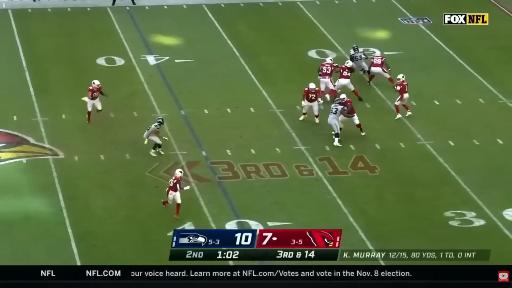Helmet: (175, 169, 183, 177), (92, 80, 100, 87), (156, 118, 164, 125), (345, 60, 353, 67), (397, 74, 405, 81), (339, 94, 347, 101), (309, 83, 315, 91), (334, 99, 342, 105), (353, 45, 358, 52), (326, 58, 333, 63), (374, 51, 380, 56)
Jersey: (167, 176, 181, 194), (319, 63, 335, 78), (144, 124, 160, 138), (304, 88, 319, 102), (350, 50, 366, 63), (329, 104, 342, 119), (342, 99, 355, 114), (88, 86, 101, 100), (340, 66, 353, 79), (396, 81, 407, 95), (372, 56, 385, 67)
Player: (163, 169, 189, 218), (328, 98, 351, 146), (335, 61, 362, 101), (340, 94, 365, 135), (367, 52, 394, 85), (87, 80, 106, 123), (319, 58, 338, 101), (144, 117, 164, 156), (300, 83, 320, 122), (394, 75, 411, 119), (350, 45, 369, 74)
